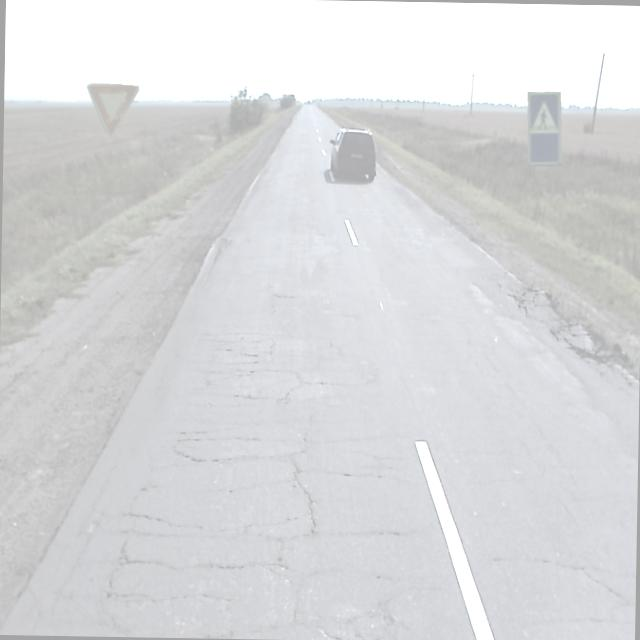road: (0, 105, 638, 640)
